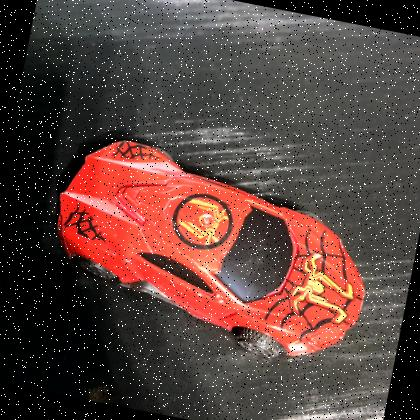Car: (27, 119, 395, 382)
